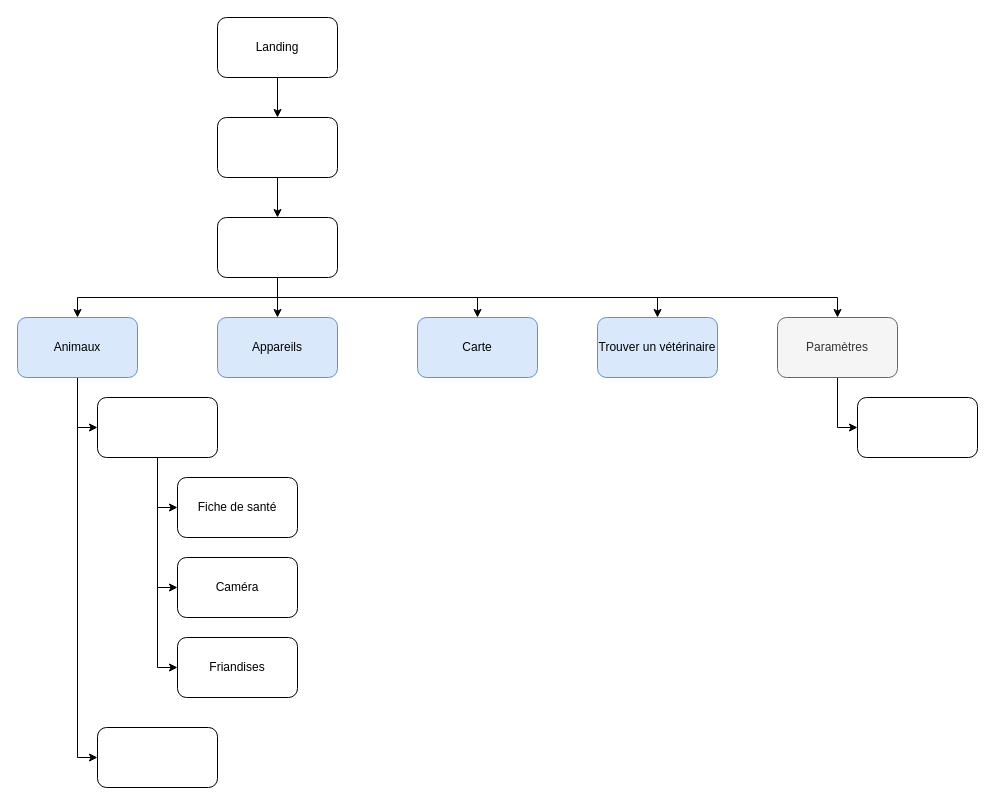
The diagram is 995 pixels wide and 805 high, and some of its shapes have lost their labels. Each missing label, with the box of its shape:
Accueil: (216, 216, 338, 278)
Ajouter un animal: (96, 726, 218, 788)
Connexion / Inscription: (216, 116, 338, 178)
Profil: (856, 396, 978, 458)
Sélection de l'animal: (96, 396, 218, 458)
